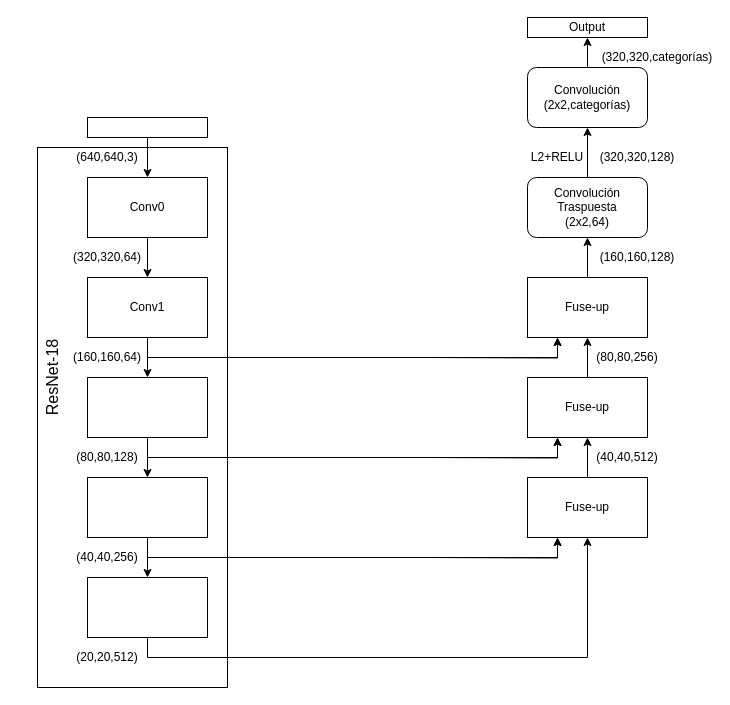
The diagram is 730 pixels wide and 705 high, and some of its shapes have lost their labels. Here are the shapes that lost their labels. From the top down, the centre of each, then its label:
At pixel 147 127: "Input".
At pixel 147 407: "Conv2".
At pixel 147 507: "Conv3".
At pixel 147 607: "Conv4".
